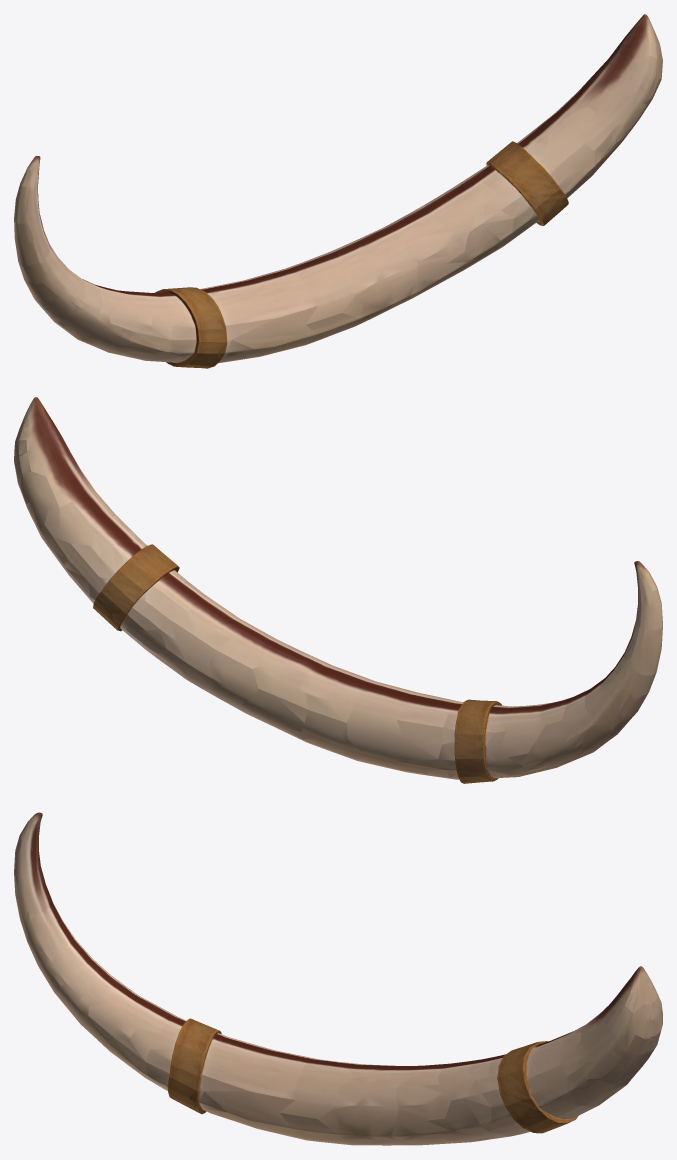
File: thalor_f-defense-cerclees-or.glb
3 renders of one model, top to bottom at view 1: azimuth 30°, elevation 25°; view 2: azimuth 150°, elevation 25°; view 3: azimuth 330°, elevation 25°, orthographic. The views are drawn at different scales.
Parts seen in each view (by area): view 1: geometry_0; view 2: geometry_0; view 3: geometry_0.
Part boxes in pixels (x1=…): geometry_0: x1=14, y1=14, x2=662, y2=368; geometry_0: x1=14, y1=397, x2=662, y2=783; geometry_0: x1=14, y1=812, x2=662, y2=1145.
Size of the model in its own units: 1.9 by 0.7402 by 0.2416.
1 material, 1 textured.
